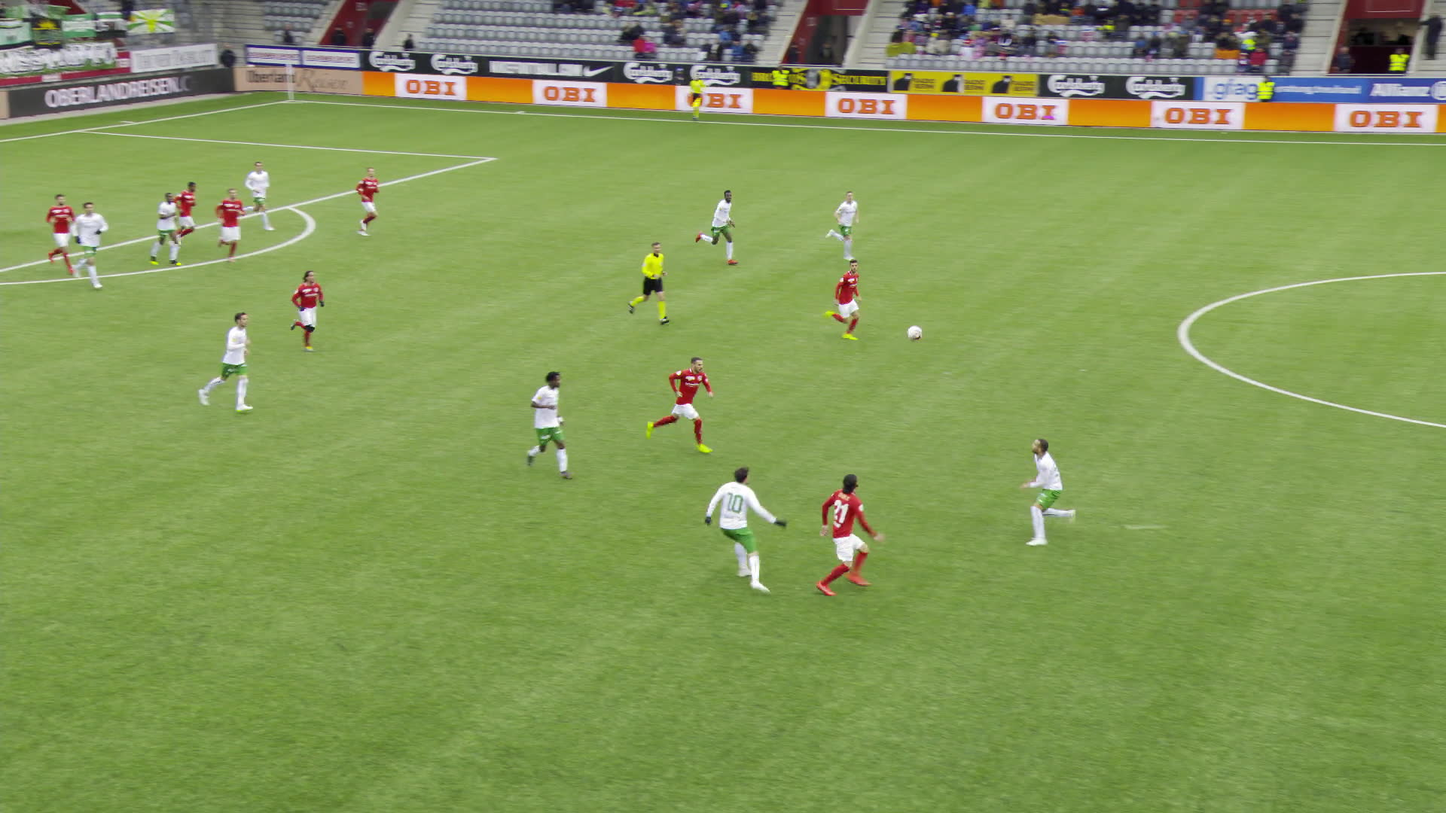ball: (901, 326, 921, 344)
player: (701, 463, 791, 590), (813, 471, 886, 598), (1017, 438, 1081, 550), (645, 353, 712, 455), (194, 310, 255, 415), (532, 367, 579, 477), (822, 256, 867, 340), (72, 201, 114, 289), (694, 187, 740, 265), (288, 266, 328, 351), (821, 189, 865, 263), (47, 192, 81, 275), (154, 192, 189, 267), (222, 186, 252, 264), (243, 160, 275, 230), (175, 180, 204, 251), (353, 166, 381, 238)
referee: (630, 240, 670, 325), (682, 73, 706, 120)
